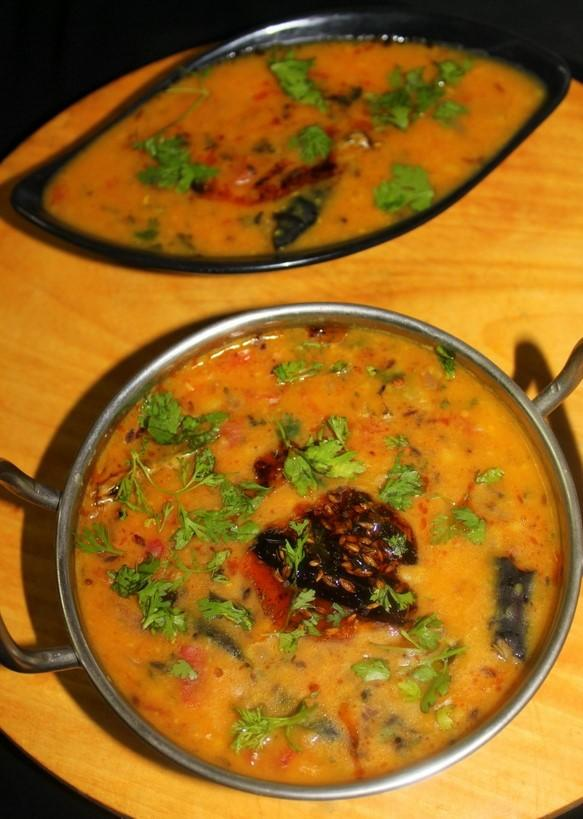Dal: (71, 325, 563, 780)
